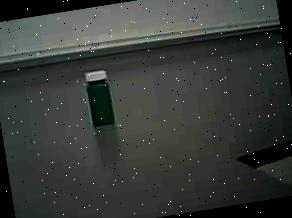Bottle C: (76, 65, 122, 132)
